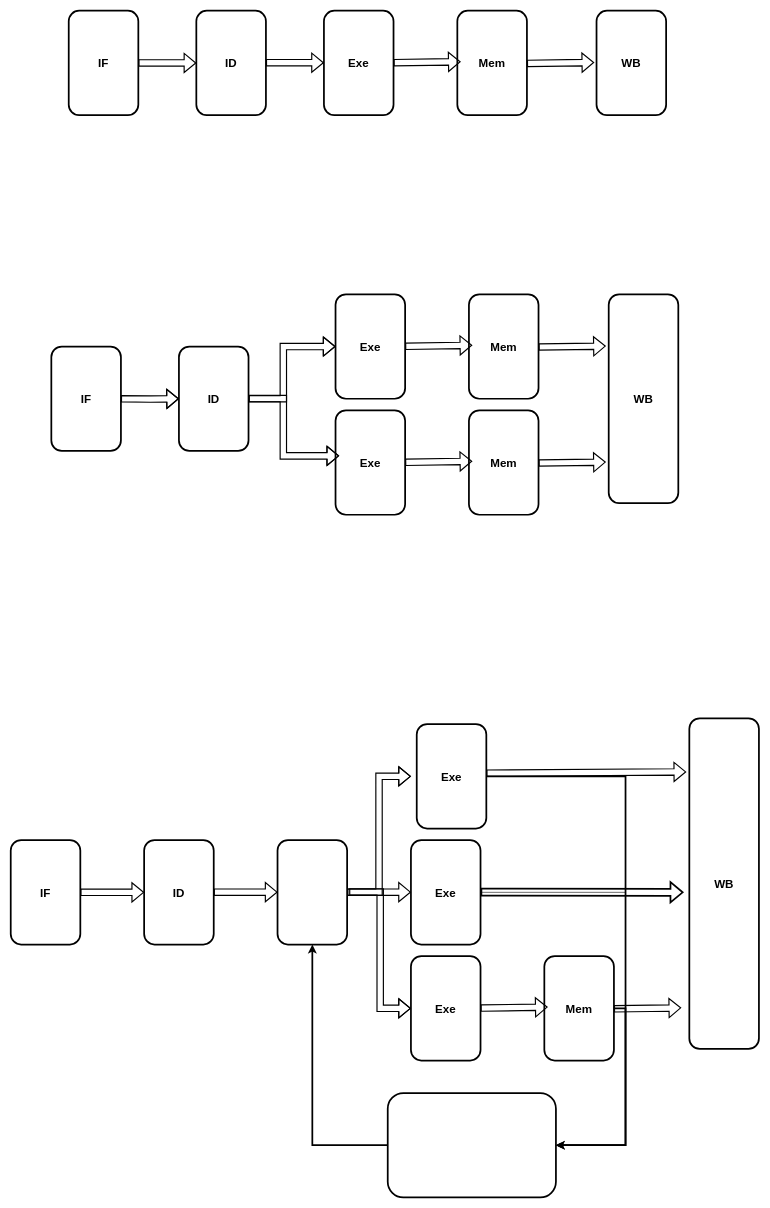
Some shapes in this 770 by 1208 pixel diagram are drawn without their labels. Each missing label, with the centre of its shape:
"issue" goes at (312,892).
"ScoreBoard" goes at (472,1145).
